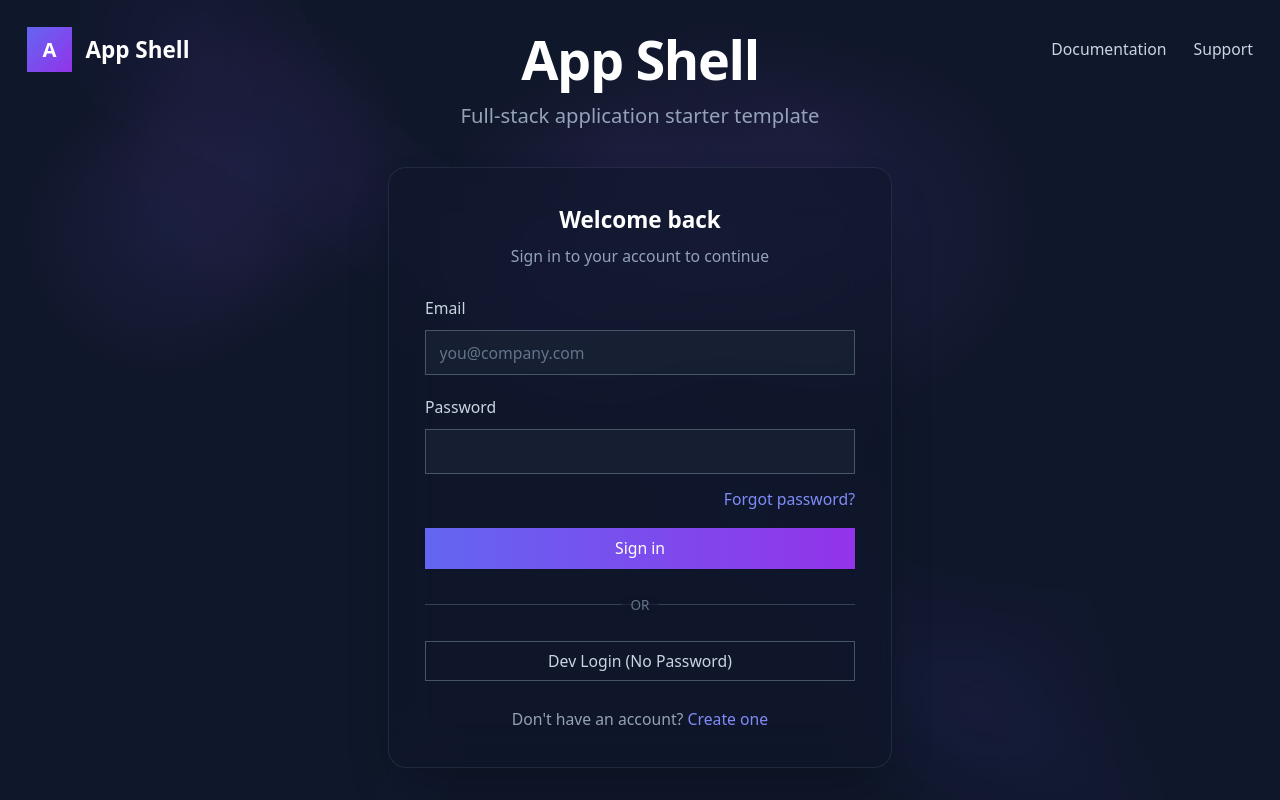
LoginPage › should disable button during loading
In the field labelled "Email": x=640, y=353 top-left (425, 330), bottom-right (855, 375), type "test@example.com"
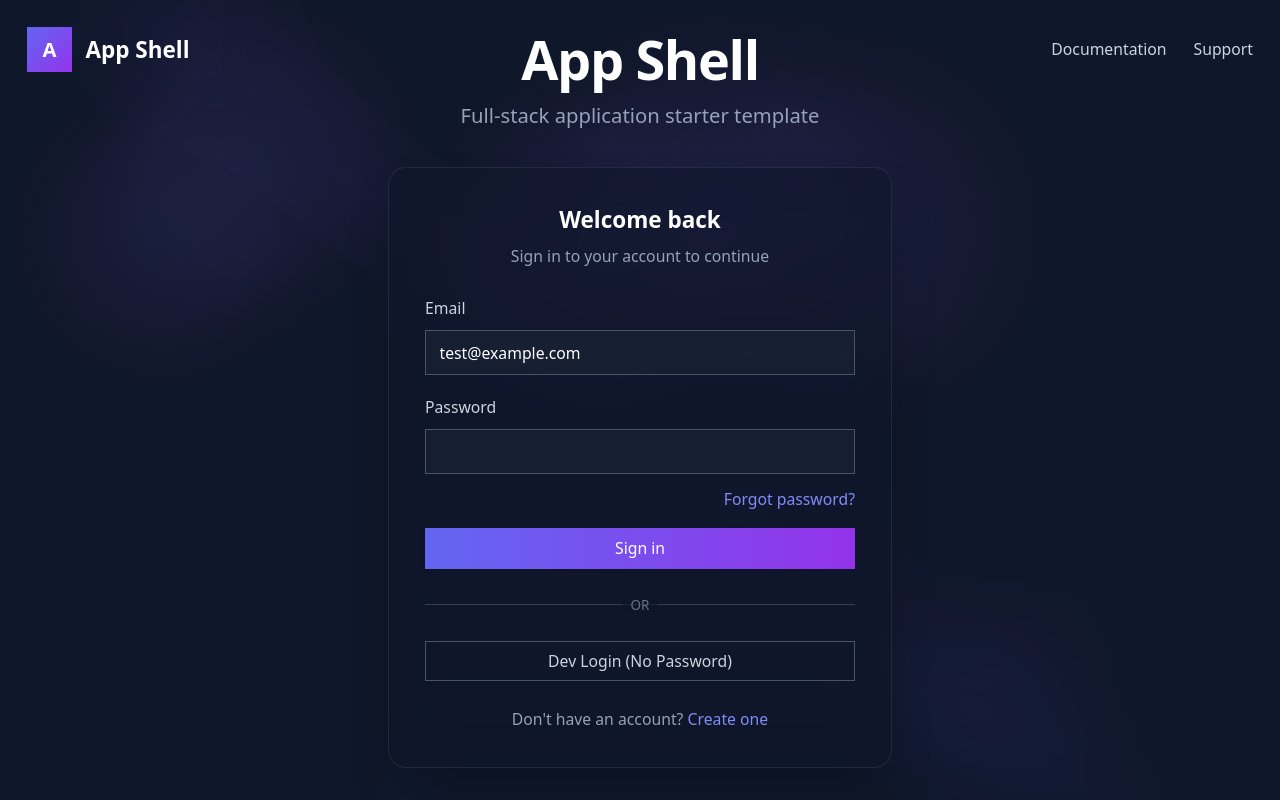
In the password field labelled "Password": x=640, y=452 top-left (425, 429), bottom-right (855, 474), type "password"
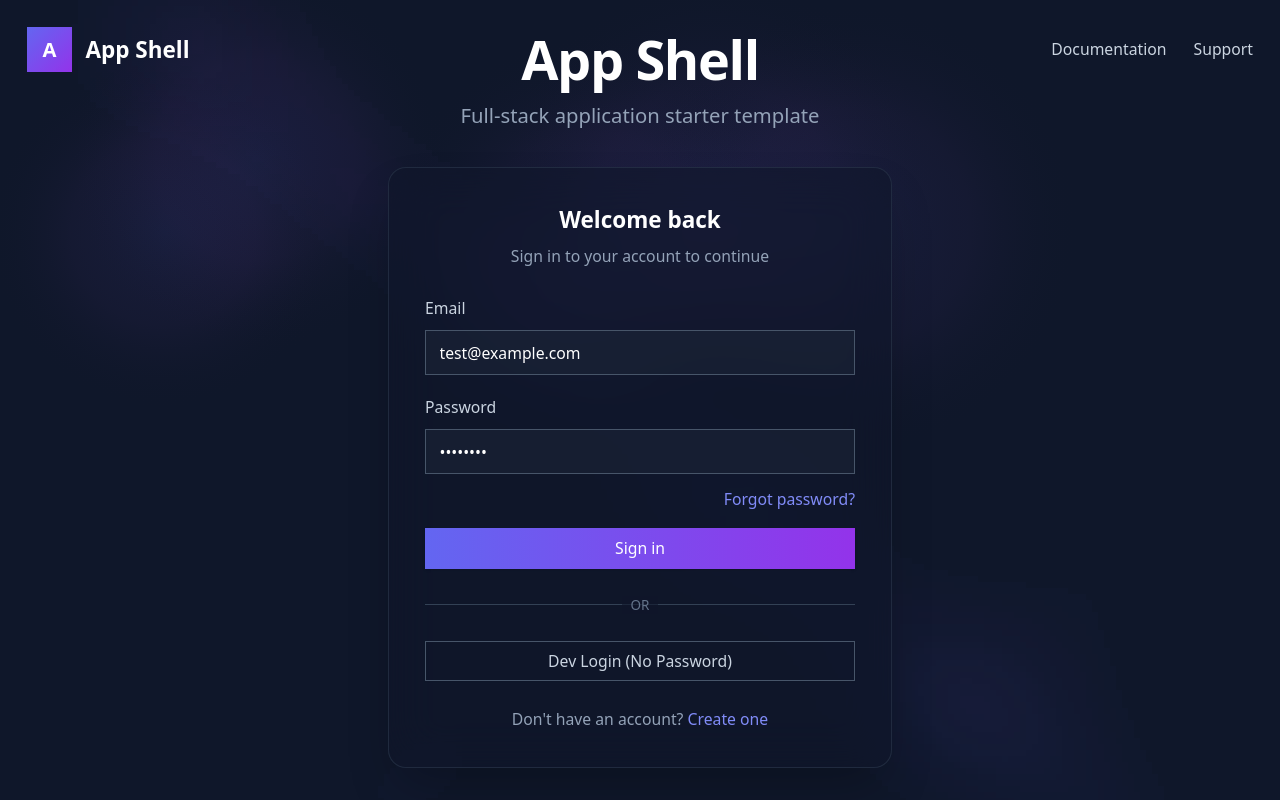
Click the button "Sign in": x=640, y=549 top-left (425, 528), bottom-right (855, 569)
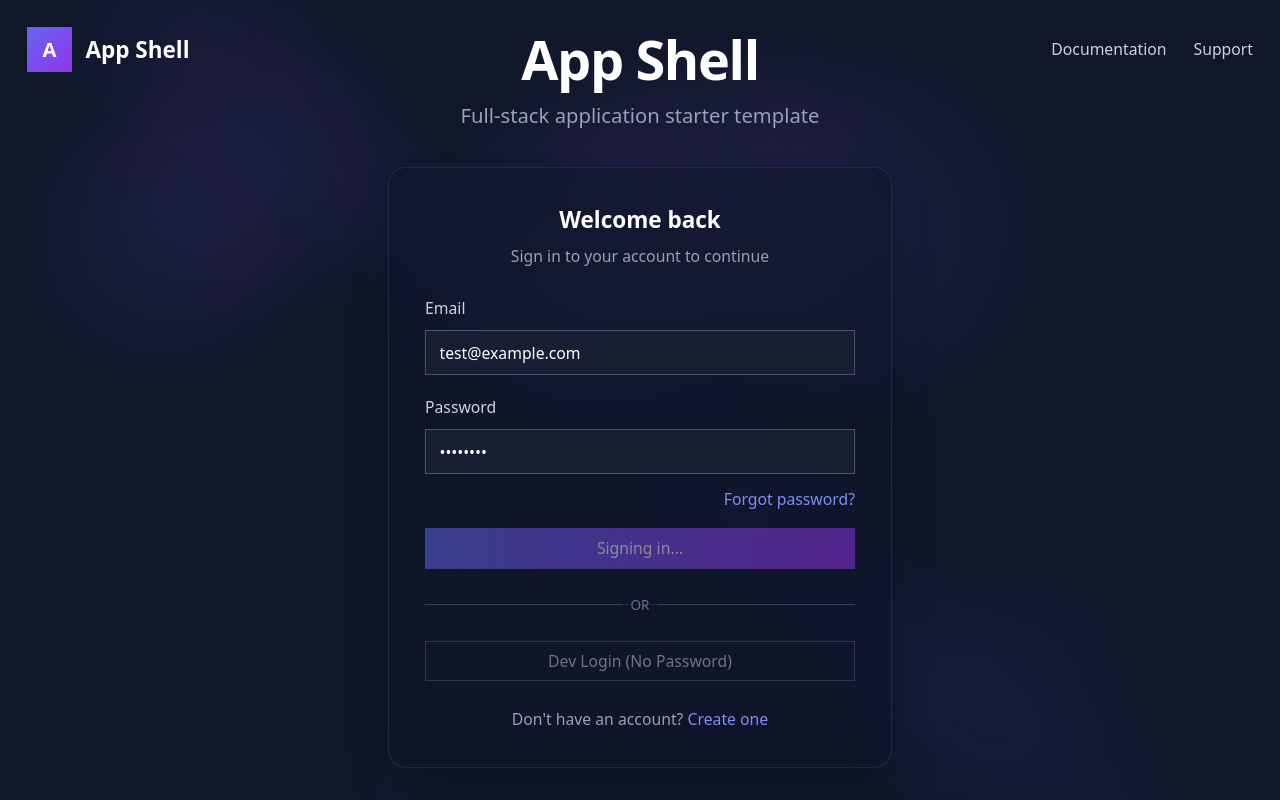
Now the button "Signing in..." is disabled, box top-left (425, 528), bottom-right (855, 569)
